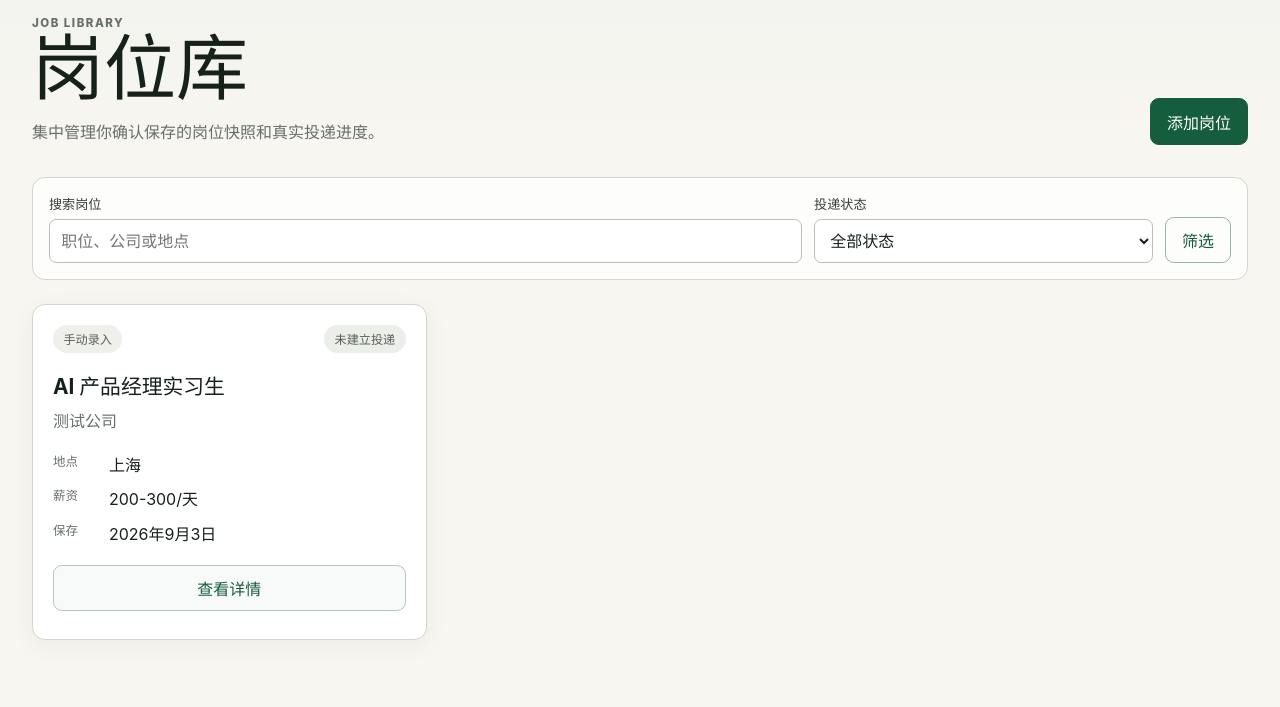
it: App › keeps the last valid result visible when reanalysis fails
The image size is (1280, 707).
(page scrolled)
Click the button "查看详情" at {"x": 229, "y": 588}, box [53,565,406,611]
(page scrolled)
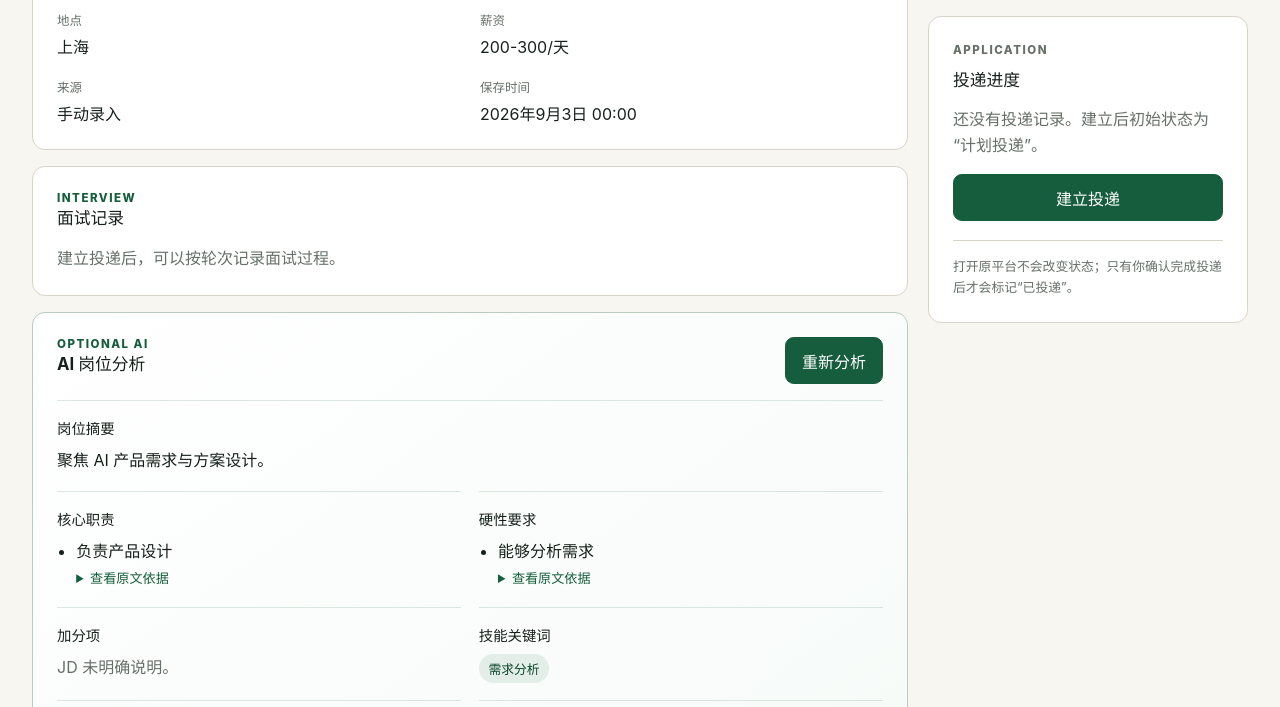
Click the button "重新分析" at {"x": 834, "y": 361}, box [785,337,883,384]
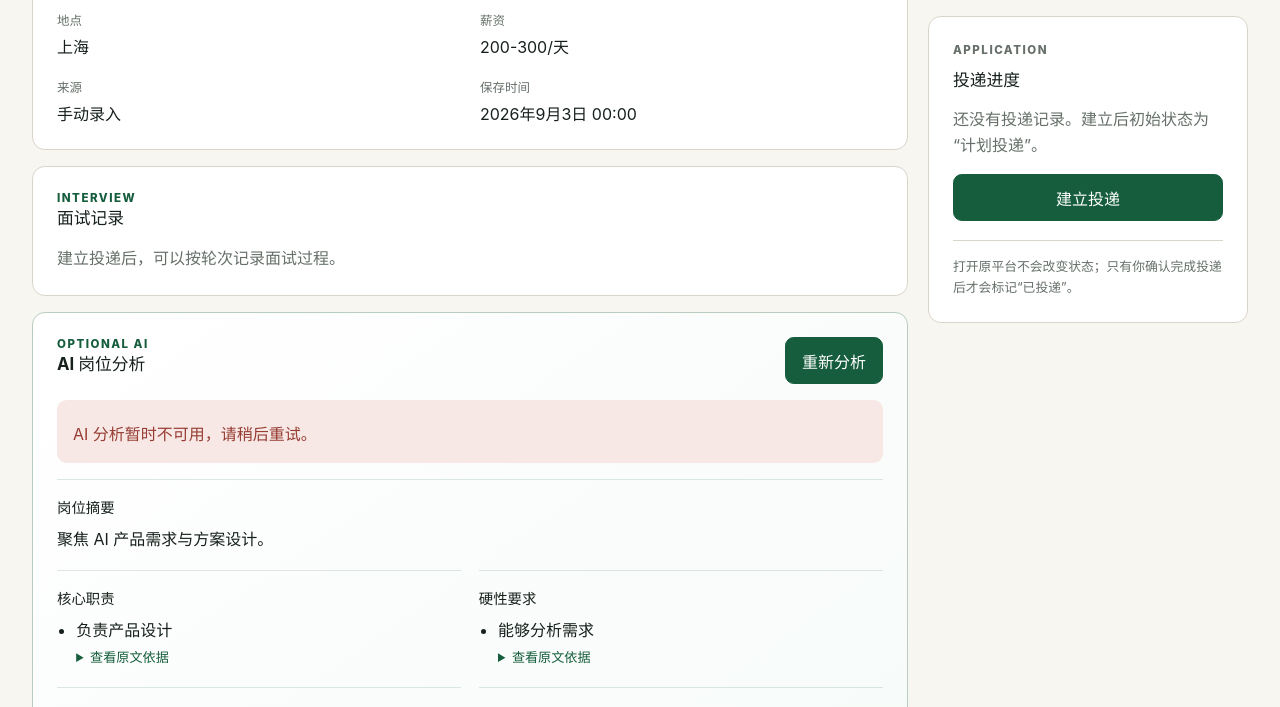
Expected: the text "聚焦 AI 产品需求与方案设计。" is shown, [57,529,273,549]
Expected: the message reads "AI 分析暂时不可用，请稍后重试。", [73,424,317,444]
